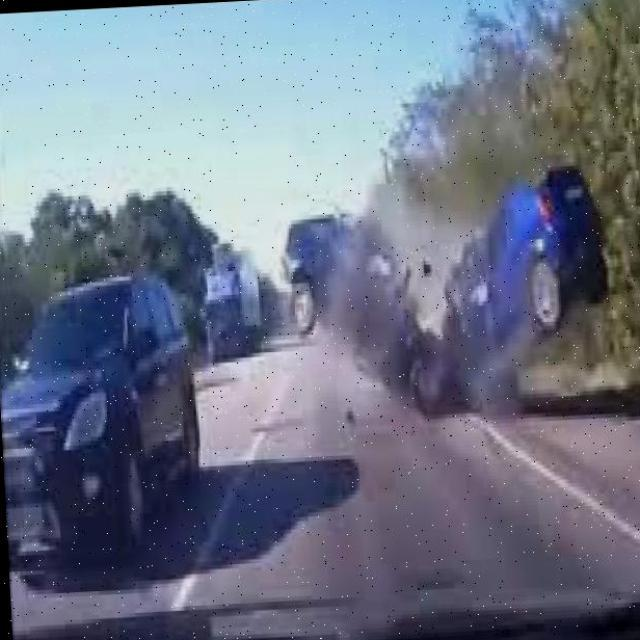accident: (270, 146, 618, 429)
